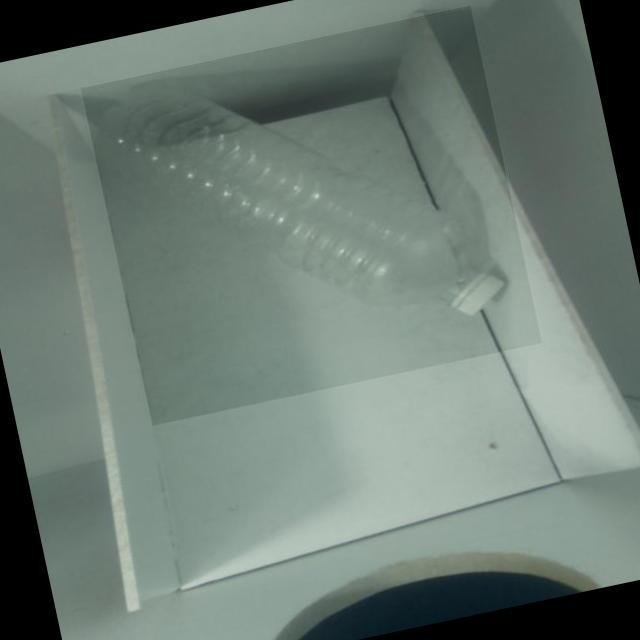good: (79, 3, 540, 424)
